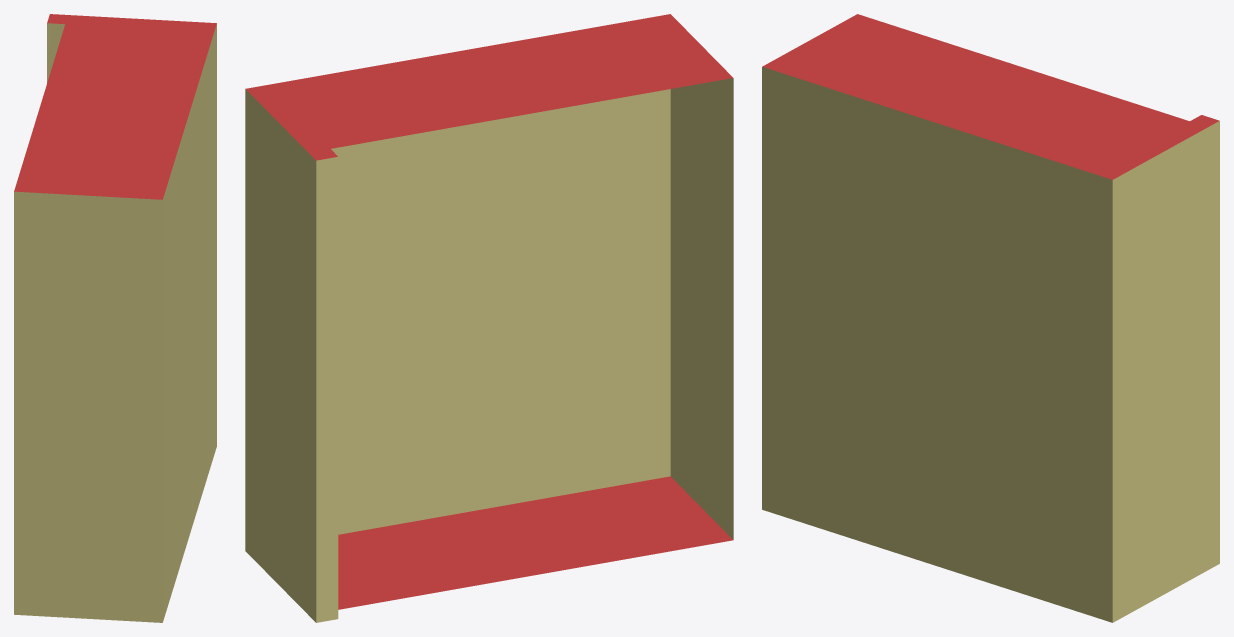
3 renders of one model, left to right at view 1: azimuth 30°, elevation 25°; view 2: azimuth 150°, elevation 25°; view 3: azimuth 270°, elevation 25°, orthographic. The views are drawn at different scales.
Parts seen in each view (by area): view 1: group_4, group_3; view 2: group_4, group_3, group_5; view 3: group_4, group_3.
Boxes of the visible parts, left/top/right/bottom form: group_4: left=14, top=23, right=216, bottom=622; group_3: left=14, top=14, right=216, bottom=199; group_4: left=245, top=78, right=733, bottom=622; group_3: left=245, top=14, right=732, bottom=160; group_5: left=338, top=476, right=732, bottom=609; group_4: left=762, top=67, right=1219, bottom=622; group_3: left=762, top=14, right=1219, bottom=179.
Bounding box in the file's own units: 6.28 × 7.32 × 7.81.
